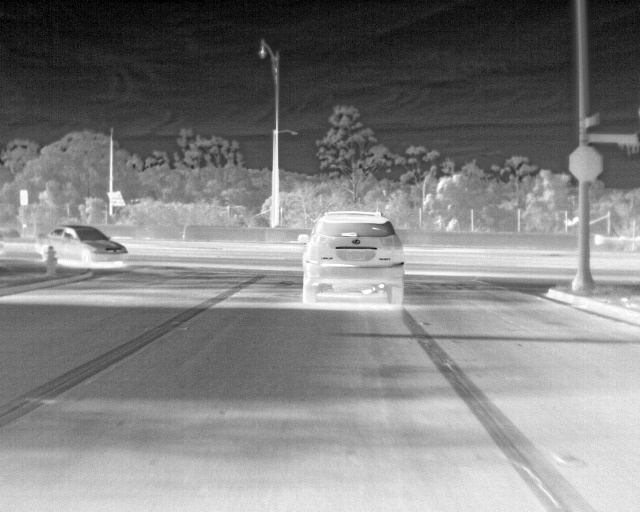vehicle: (301, 214, 405, 302), (35, 224, 129, 270)
